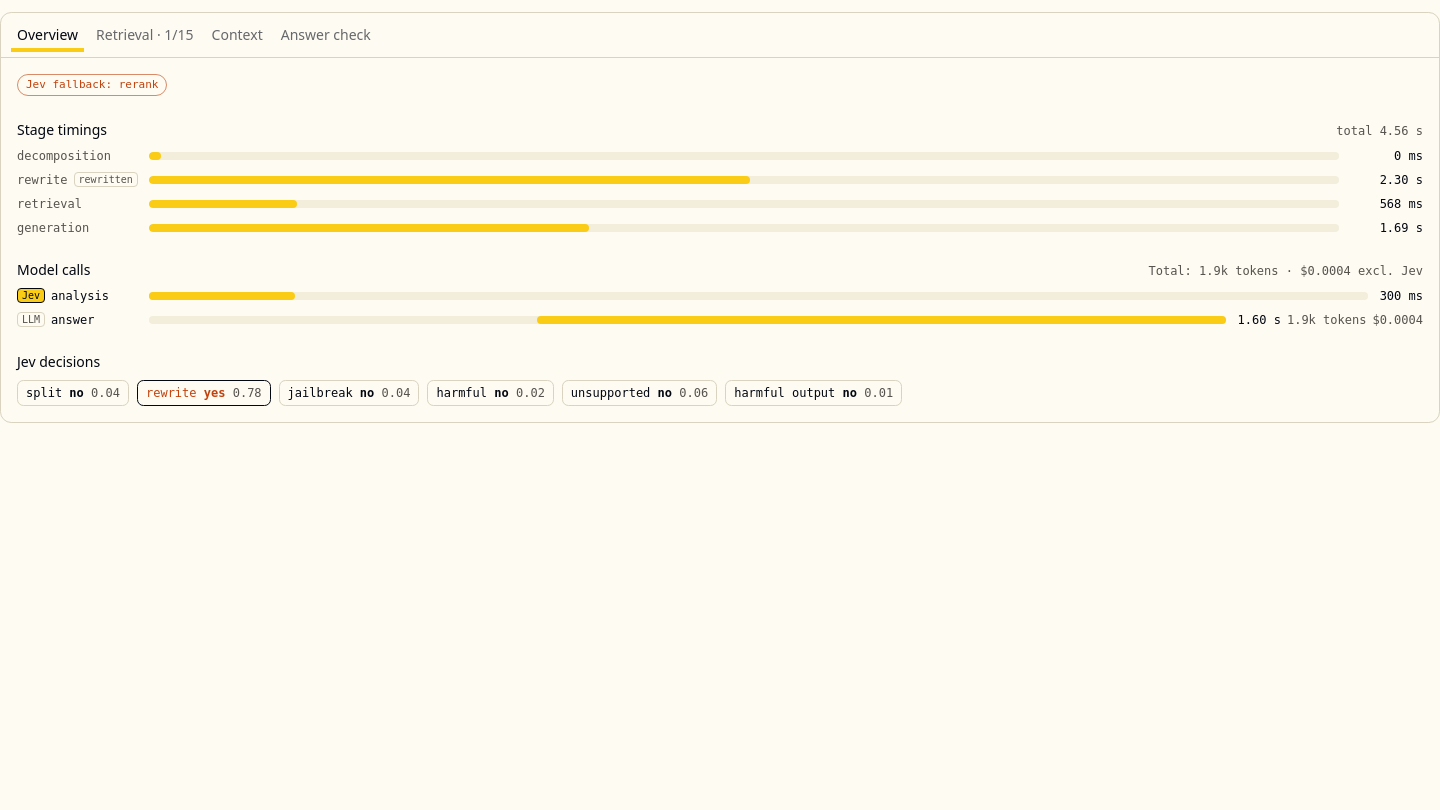
Scenario: transparency fields › the dropped filter hides kept candidates
Click the tab "Retrieval · 1/15".
click(145, 35)  # box [89,22,201,48]
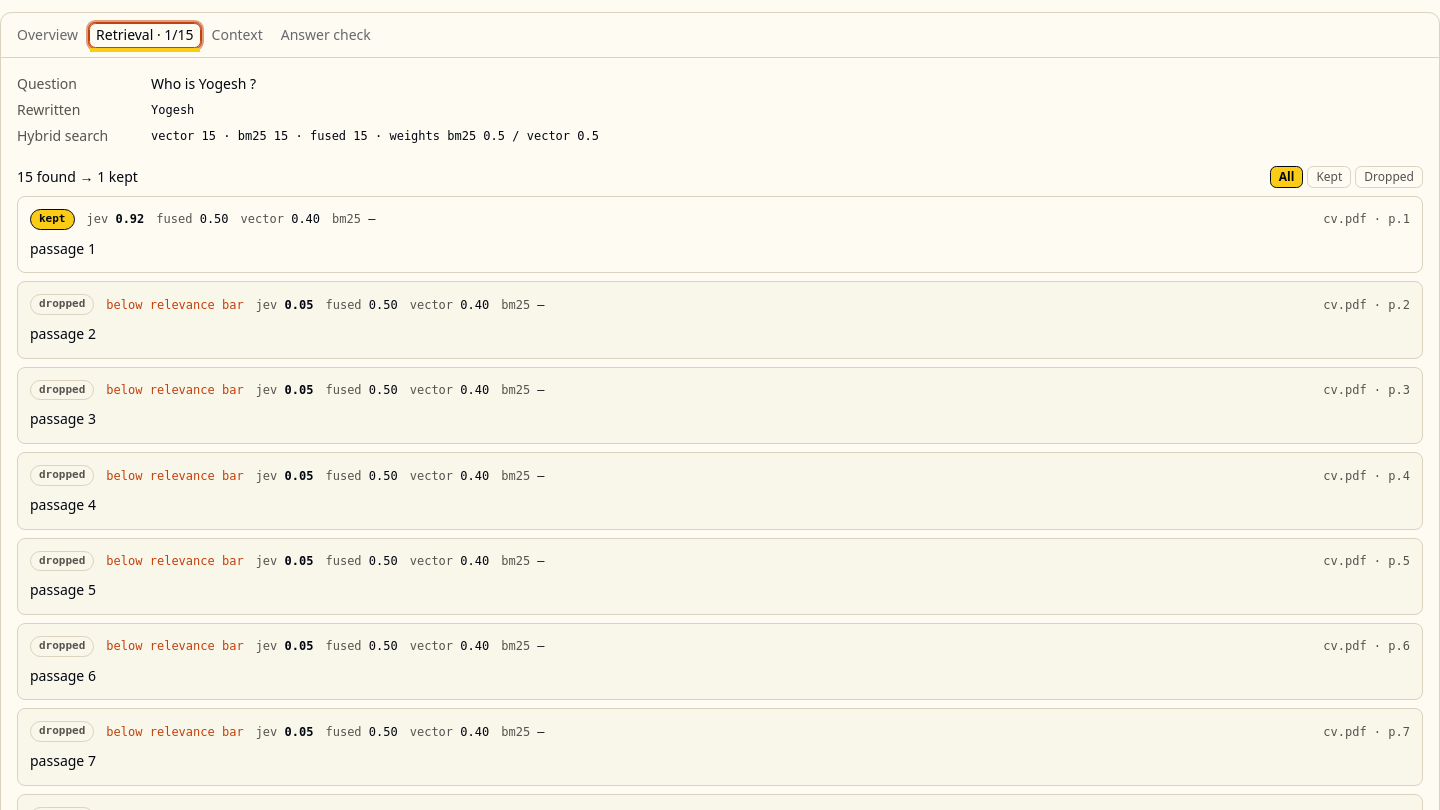
Click the button "Dropped".
click(1389, 177)  # box [1355,166,1423,188]
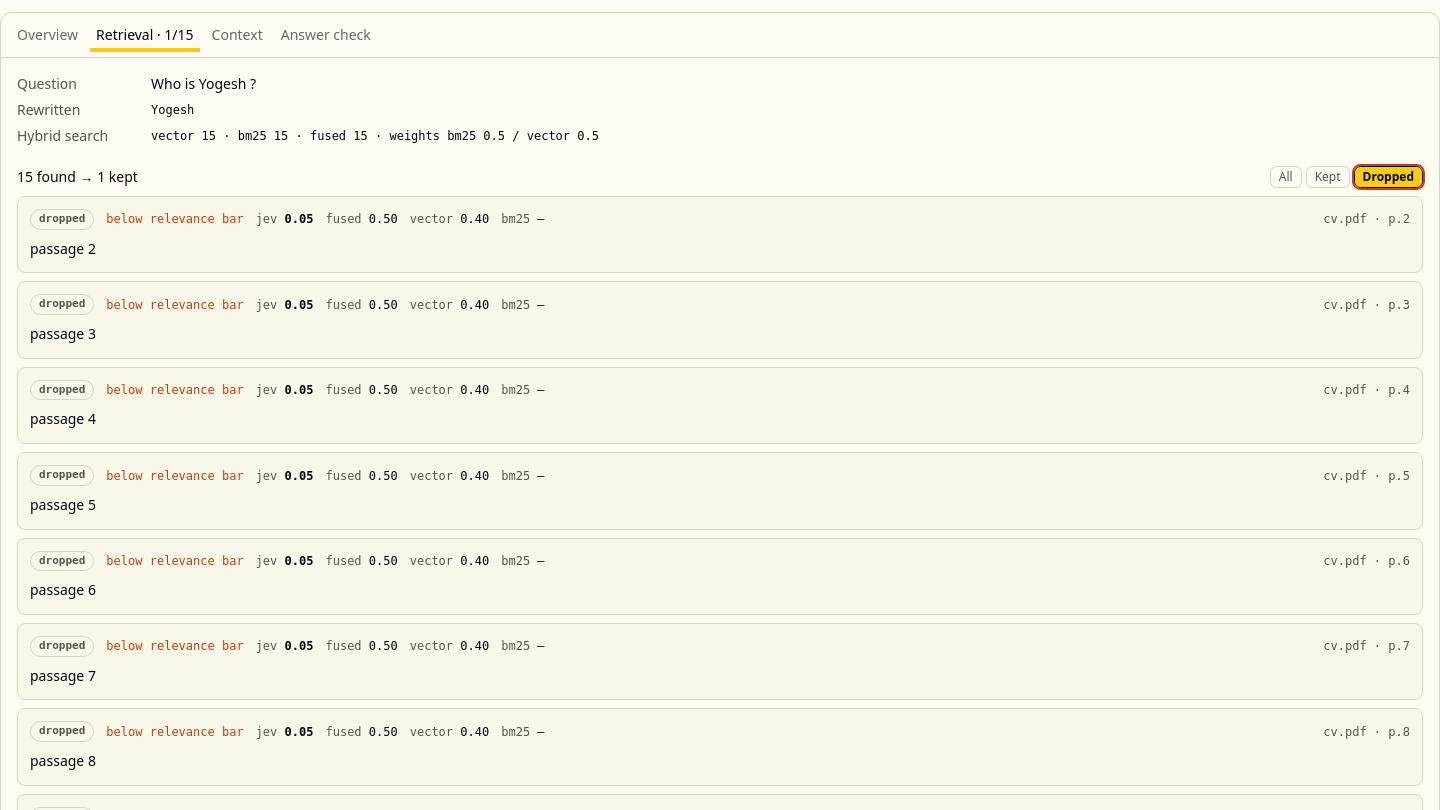
Check: the number of list items is 14
